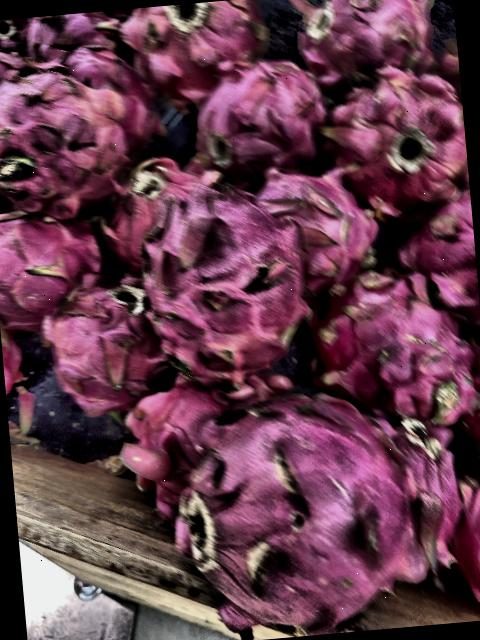buah-naga-matang: (160, 377, 454, 627), (130, 164, 308, 384), (323, 268, 480, 427), (118, 351, 304, 484), (317, 59, 470, 215), (0, 68, 133, 217), (0, 196, 133, 334), (250, 158, 382, 288), (192, 56, 325, 178), (50, 280, 166, 412), (53, 30, 172, 152), (286, 0, 444, 80), (125, 0, 262, 88), (396, 202, 480, 322)
